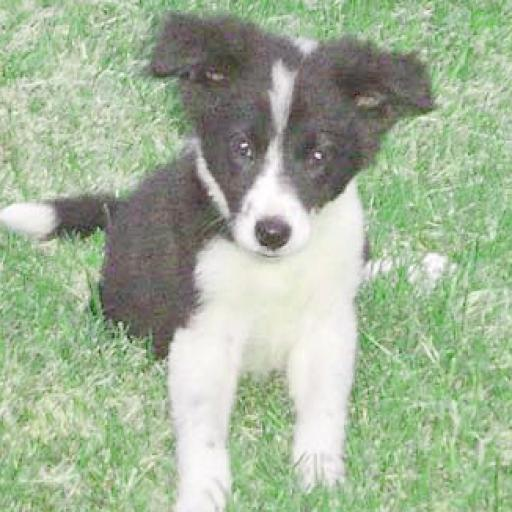dog_face: (154, 0, 427, 261)
